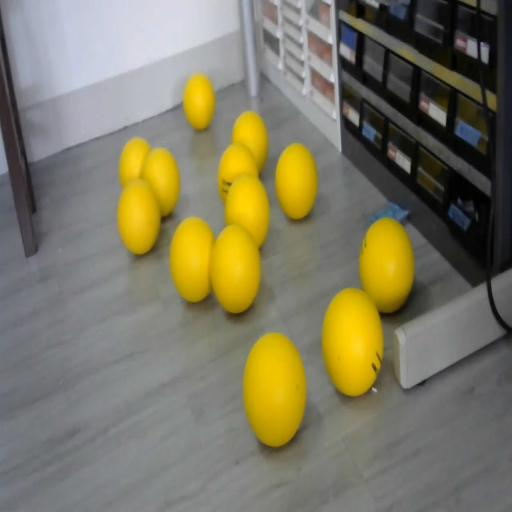FUEL: (242, 331, 308, 445), (320, 286, 385, 396), (358, 217, 416, 313), (209, 224, 261, 313), (169, 216, 215, 302), (274, 142, 318, 220), (117, 179, 160, 255), (232, 110, 269, 172), (183, 73, 215, 131), (119, 137, 151, 188)
